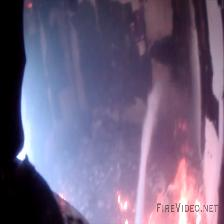fire: (110, 121, 214, 224)
